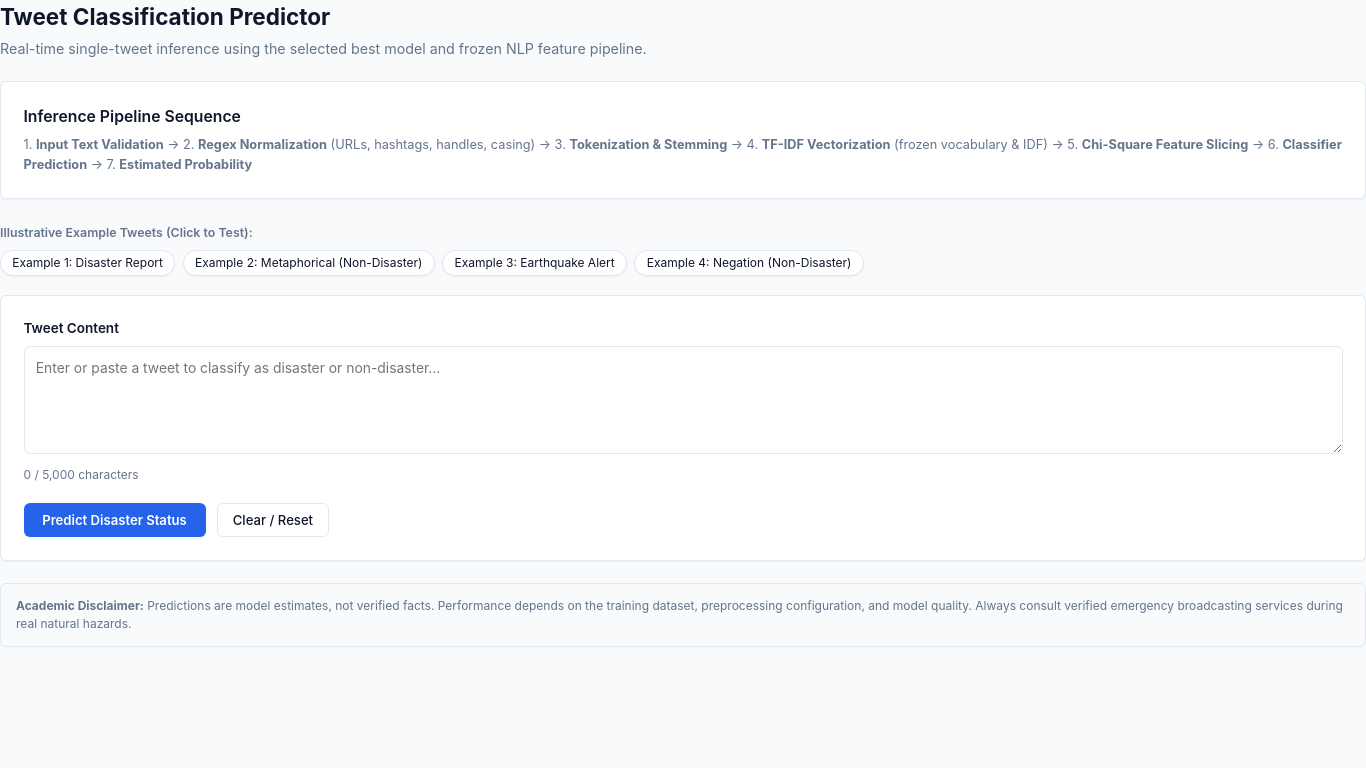
Scenario: Prediction Page Component Tests (T16) › successfully predicts Non-Disaster (Class 0)
The image size is (1366, 768).
Replace the text in the text box with placeholder "Enter or paste a tweet to classify" with "That party was pure fire, loved the music!" at (683, 400), box [24,346,1342,454]
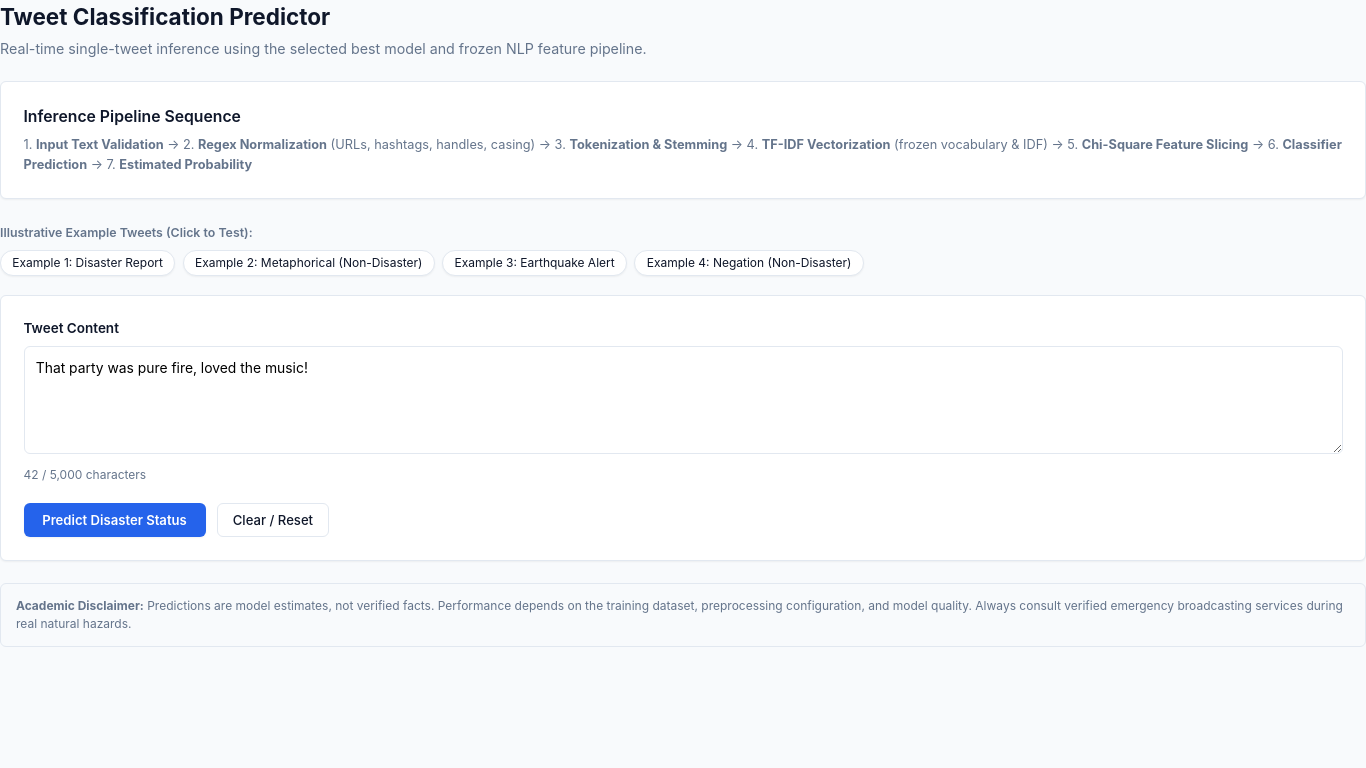
Click the button "Predict Disaster Status" at (114, 520), box [24,503,206,537]
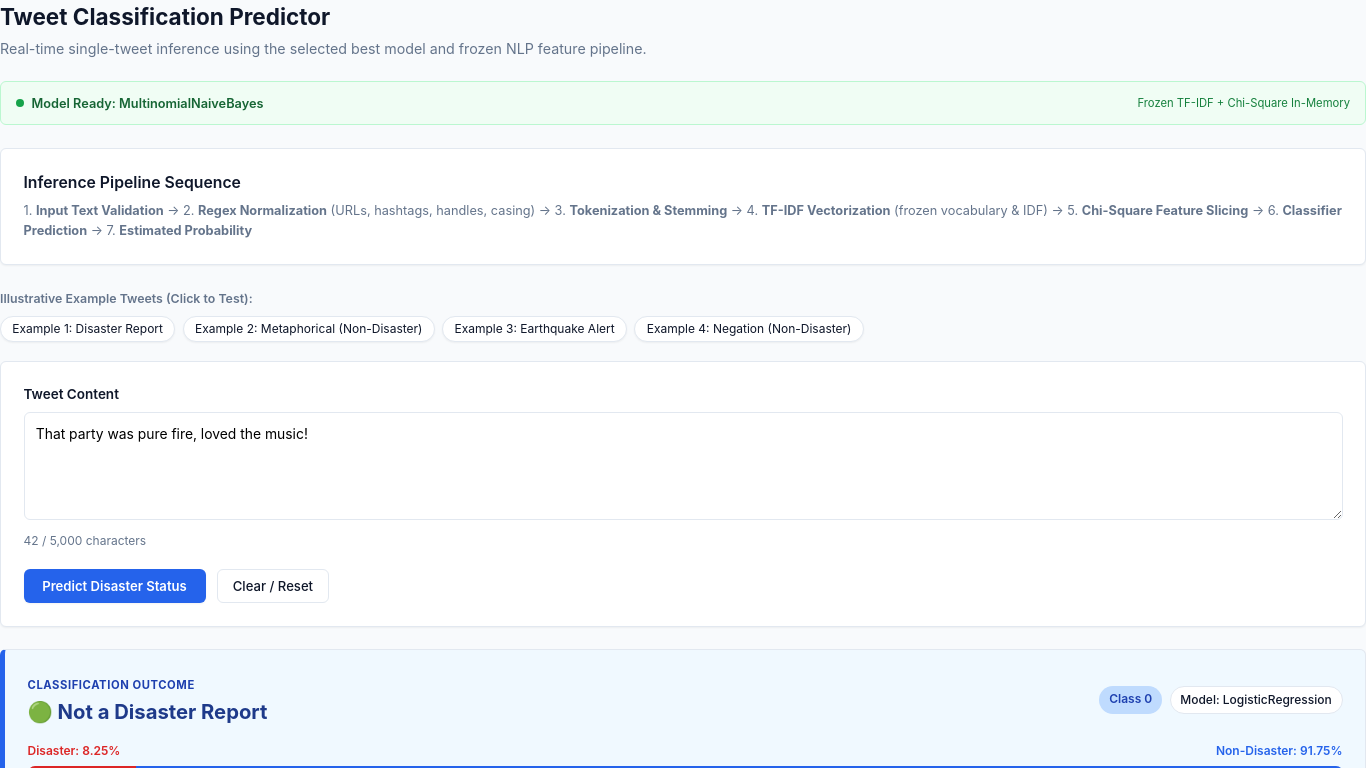
Check: the heading "🟢 Not a Disaster Report" is shown, box [28,697,267,727]
Check: the text "Class 0" is shown, box [1100,686,1162,714]
Check: the text "Non-Disaster: 91.75%" is shown, box [1216,742,1342,760]
